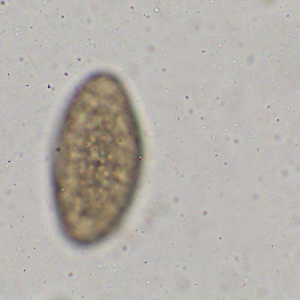Fasciola_hepatica_egg: (50, 70, 144, 248)
